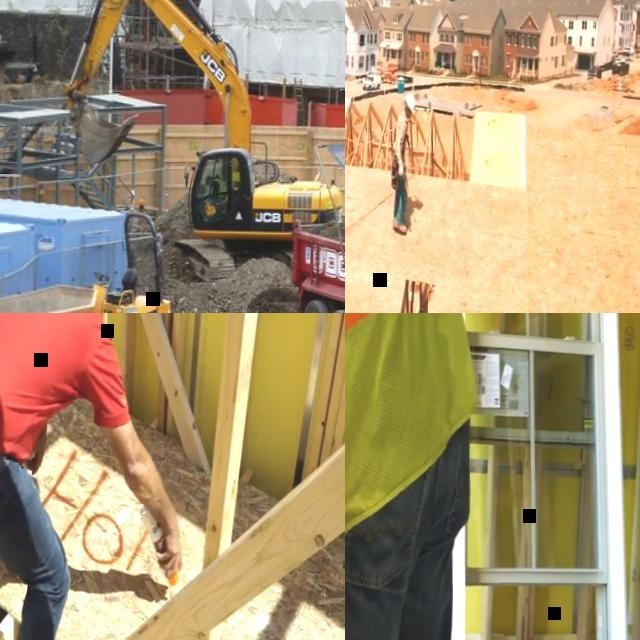Hardhat: (404, 93, 415, 113)
NO-Hardhat: (203, 174, 211, 184)
NO-Mask: (406, 112, 411, 119)
NO-Safety Vest: (0, 313, 101, 459)
Person: (0, 313, 190, 640), (345, 313, 480, 640), (391, 93, 415, 232), (202, 173, 229, 211)
Safety Vest: (345, 313, 488, 550), (212, 178, 229, 201)
machinery: (57, 0, 345, 286), (0, 208, 174, 313), (380, 65, 399, 84)
vehicle: (362, 73, 382, 91), (623, 45, 632, 55)
